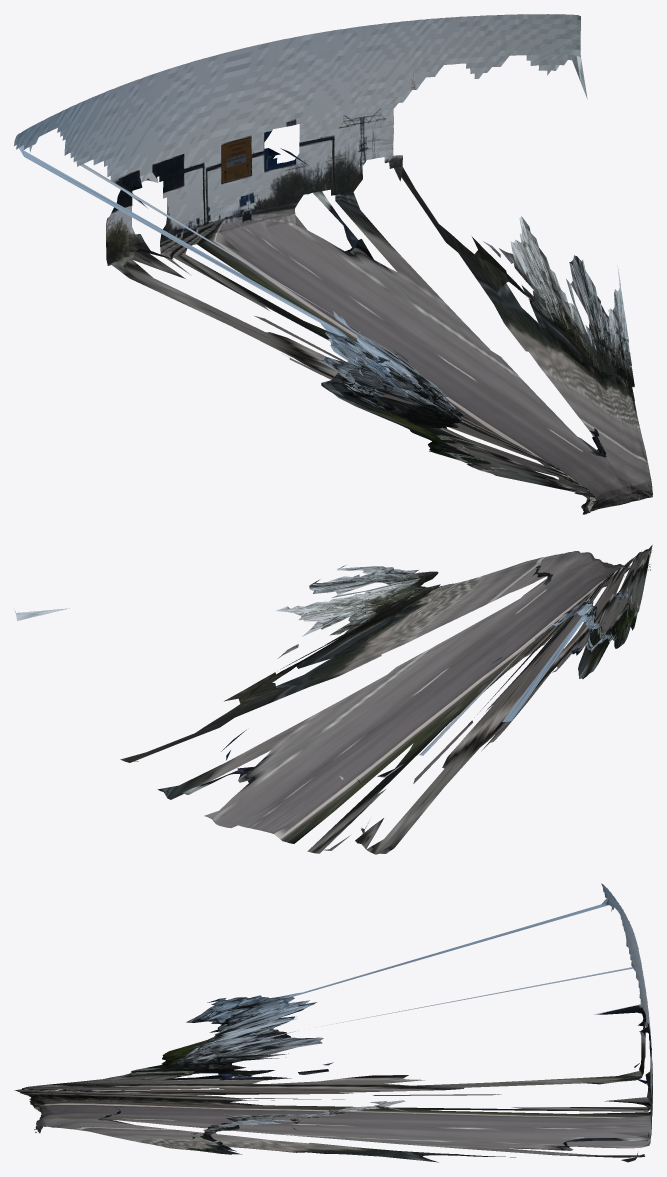
3 views of the same model, one above another, from view 1: azimuth 30°, elevation 25°; view 2: azimuth 150°, elevation 25°; view 3: azimuth 270°, elevation 25° (orthographic). The views are drawn at different scales.
Visible parts, largest first — view 1: defaultobject; view 2: defaultobject; view 3: defaultobject.
Boxes of the visible parts, box(x1,y1,x2,y2) form: defaultobject: box(14, 14, 652, 514); defaultobject: box(14, 545, 652, 854); defaultobject: box(14, 883, 652, 1162).
Bounding box in the file's own units: 36.88 × 12.46 × 45.8.
Materials: 1 (1 with a texture image).
